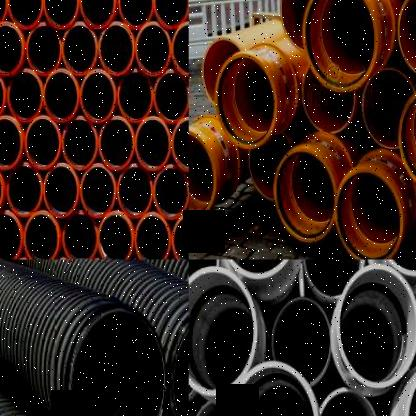pipe: (336, 262, 416, 388), (71, 310, 165, 416), (189, 266, 257, 396), (304, 0, 378, 92), (273, 146, 337, 244), (334, 168, 402, 260), (216, 53, 276, 149), (271, 297, 330, 386), (228, 360, 320, 416), (362, 69, 415, 149), (302, 65, 355, 133), (248, 133, 293, 202), (202, 38, 240, 106), (188, 130, 216, 221), (302, 260, 366, 299), (280, 0, 325, 51), (42, 68, 79, 123), (6, 163, 43, 218), (135, 22, 172, 76), (116, 69, 153, 123), (25, 115, 62, 169), (135, 116, 171, 171), (117, 164, 153, 219), (153, 164, 189, 219), (98, 117, 135, 170), (44, 162, 79, 218), (62, 22, 98, 76), (80, 69, 116, 123), (153, 69, 189, 123), (62, 116, 98, 170), (80, 164, 116, 218), (99, 23, 135, 76), (26, 23, 62, 76), (7, 69, 43, 122), (398, 86, 416, 192), (61, 210, 98, 260), (24, 212, 60, 260), (98, 212, 134, 260), (134, 212, 170, 260), (217, 259, 301, 279), (318, 389, 379, 416), (396, 0, 416, 78), (188, 260, 218, 306), (0, 22, 24, 76), (0, 115, 23, 169), (0, 209, 23, 260), (79, 0, 116, 29), (153, 0, 189, 29), (118, 0, 153, 29), (7, 0, 42, 29), (43, 0, 79, 28), (171, 116, 188, 172), (172, 23, 188, 76), (172, 212, 188, 260), (407, 292, 416, 371), (191, 401, 236, 416), (0, 68, 5, 123), (0, 0, 8, 28)
